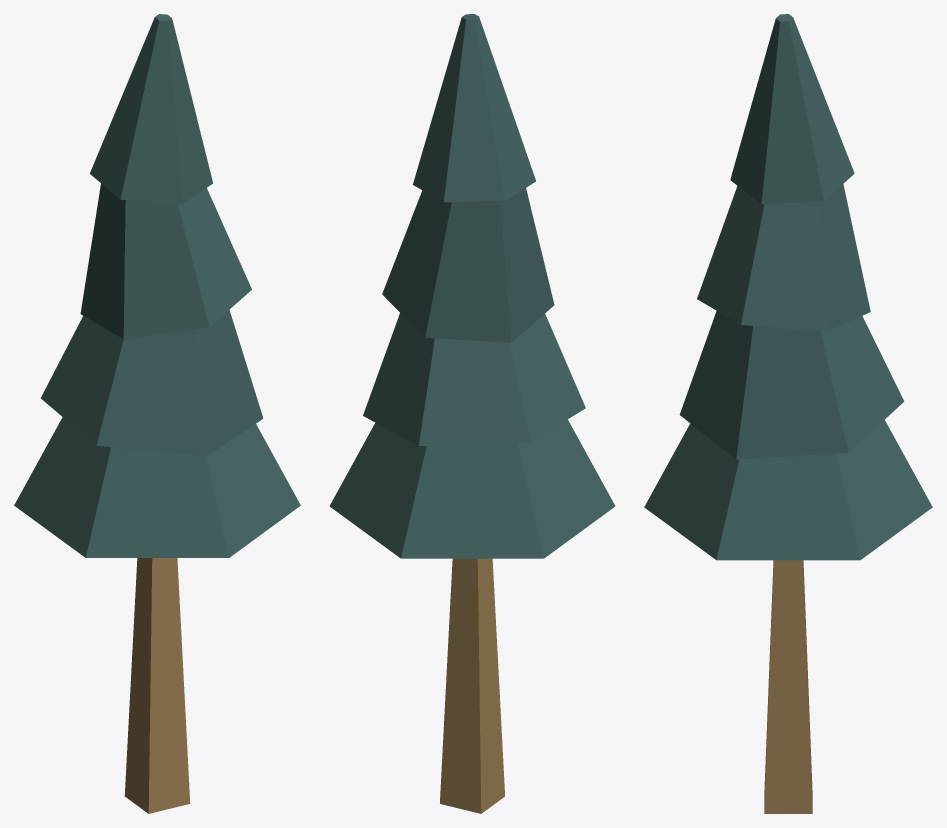
The model's file is naturePack_051.fbx.
The picture shows the model from 3 angles, left to right: view 1: azimuth 30°, elevation 25°; view 2: azimuth 150°, elevation 25°; view 3: azimuth 270°, elevation 25°; orthographic projection.
Parts seen in each view (by area): view 1: Mesh1_Group1 Model; view 2: Mesh1_Group1 Model; view 3: Mesh1_Group1 Model.
Boxes of the visible parts, bbox=[...] form: Mesh1_Group1 Model: bbox=[14, 14, 300, 813]; Mesh1_Group1 Model: bbox=[329, 14, 615, 813]; Mesh1_Group1 Model: bbox=[644, 14, 932, 813].
Bounding box in the file's own units: 1.92 × 6.69 × 2.22.
